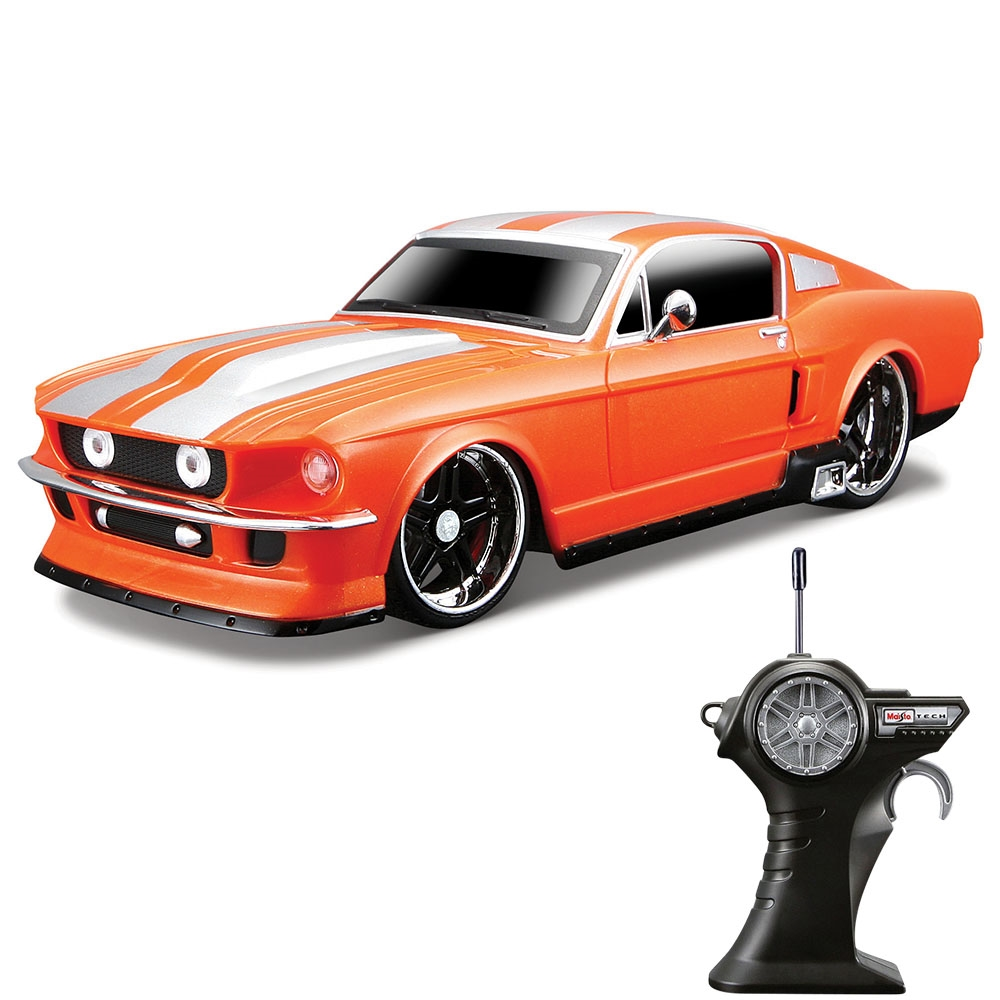ARABA: (14, 203, 990, 646)
